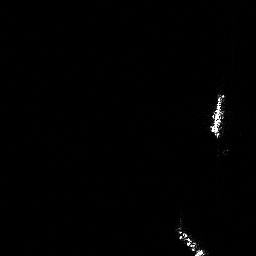ship: (209, 93, 226, 138), (178, 230, 204, 256)
